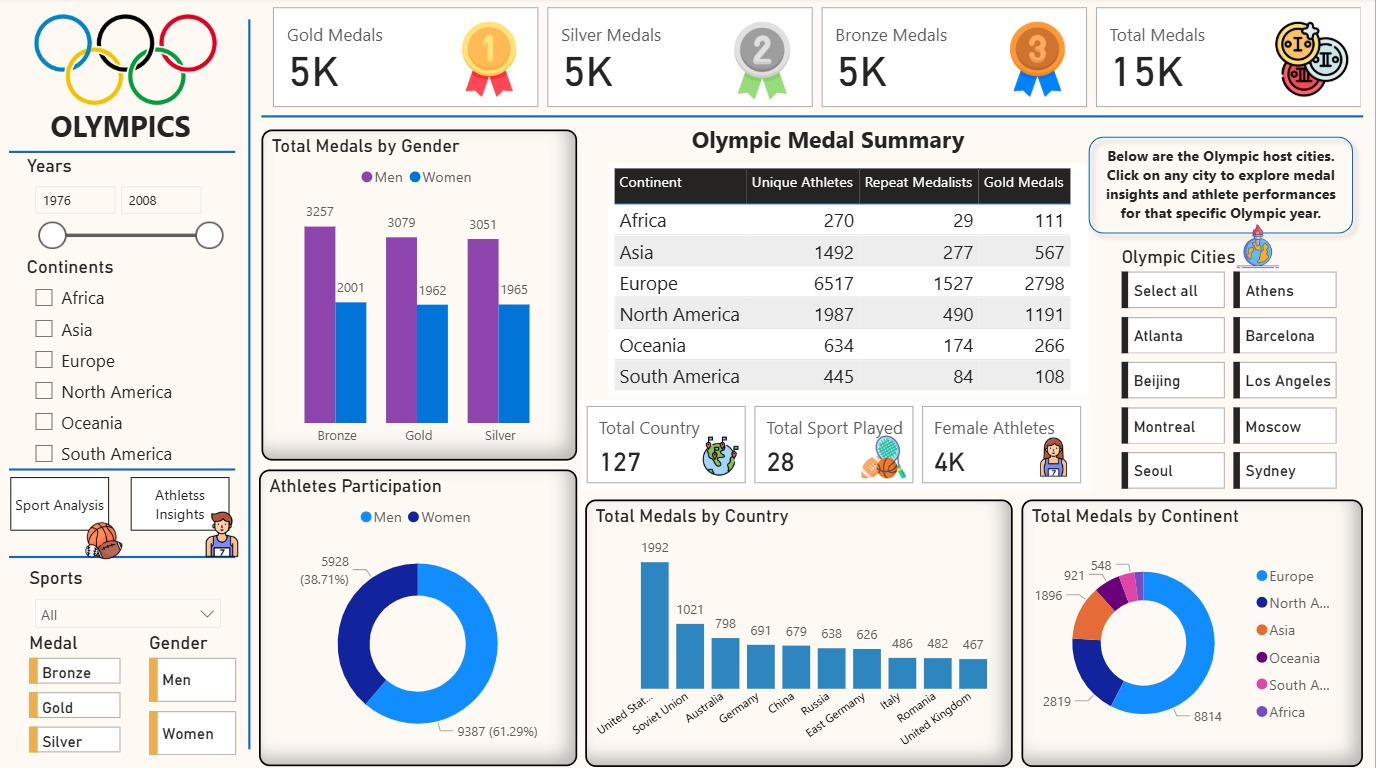

Layout of this report page (visuals, bound fields, positions):
{"tool":"powerbi","page":{"name":"Overview","canvas":[1280,720],"ordinal":0},"visuals":[{"type":"slicer","title":"Years","fields":{"Values":["Cleaned_Summer_Olympic_Medals.year"]},"box":[20.4,146.6,195.5,97.8],"z":0},{"type":"slicer","title":"Continents","fields":{"Values":["Cleaned_Summer_Olympic_Medals.continent"]},"box":[20.4,240.3,195.5,203.6],"z":1000},{"type":"advancedSlicerVisual","title":"Gender","fields":{"Values":["Cleaned_Summer_Olympic_Medals.gender"]},"box":[134.9,590.7,91.9,119.8],"z":2000},{"type":"advancedSlicerVisual","title":"Medal","fields":{"Values":["Cleaned_Summer_Olympic_Medals.medal"]},"box":[23.3,590.7,95.3,119.8],"z":3000},{"type":"cardVisual","fields":{"Data":["Cleaned_Summer_Olympic_Medals.Gold Medals","Cleaned_Summer_Olympic_Medals.Silver Medals","Cleaned_Summer_Olympic_Medals.Bronze Medals","Cleaned_Summer_Olympic_Medals.Total Medals"]},"box":[255,4.1,1025,104.5],"z":4000},{"type":"shape","box":[244.4,99.1,1025,24.4],"z":5000},{"type":"shape","box":[226.7,20.4,12.2,678.8],"z":6000},{"type":"image","box":[20.4,2.7,195.5,110],"z":7000},{"type":"textbox","box":[43.4,96.4,149.3,54.3],"z":8000},{"type":"shape","box":[9.5,133.1,210.4,23.1],"z":9000},{"type":"slicer","title":"Sports","fields":{"Values":["Cleaned_Summer_Olympic_Medals.city"]},"box":[23.3,530.2,193,60.5],"z":10000},{"type":"shape","box":[9.3,509.3,210.5,23.3],"z":11000},{"type":"shape","box":[9.3,427.9,210.5,23.3],"z":12000},{"type":"textbox","box":[639.5,112.7,342.1,46.2],"z":13000},{"type":"clusteredColumnChart","title":"Total Medals by Gender","fields":{"Category":["Cleaned_Summer_Olympic_Medals.medal"],"Series":["Cleaned_Summer_Olympic_Medals.gender"],"Y":["Cleaned_Summer_Olympic_Medals.Total Medals"]},"box":[244.4,123.5,293.3,308.2],"z":14000},{"type":"donutChart","title":"Athletes Participation","fields":{"Category":["Cleaned_Summer_Olympic_Medals.gender"],"Y":["CountNonNull(Cleaned_Summer_Olympic_Medals.athlete)"]},"box":[241.7,439.9,296,275.6],"z":15000},{"type":"donutChart","fields":{"Category":["Cleaned_Summer_Olympic_Medals.continent"],"Y":["Cleaned_Summer_Olympic_Medals.Total Medals"]},"box":[951.7,467,317.7,248.5],"z":16000},{"type":"tableEx","fields":{"Values":["Cleaned_Summer_Olympic_Medals.continent","Cleaned_Summer_Olympic_Medals.Unique Athletes","Cleaned_Summer_Olympic_Medals.Repeat Medalists","Cleaned_Summer_Olympic_Medals.Gold Medals"]},"box":[566.1,154.8,448,217.2],"z":17000},{"type":"columnChart","title":"Total Medals by Country","fields":{"Category":["Cleaned_Summer_Olympic_Medals.country"],"Y":["Cleaned_Summer_Olympic_Medals.Total Medals"]},"box":[545.8,467,397.8,248.5],"z":18000},{"type":"cardVisual","fields":{"Data":["Count(Cleaned_Summer_Olympic_Medals.country)","Count(Cleaned_Summer_Olympic_Medals.sport)","Cleaned_Summer_Olympic_Medals.Female Athletes"]},"box":[541.7,376.1,472.5,82.8],"z":19000},{"type":"advancedSlicerVisual","title":"Olympic Cities","fields":{"Values":["Cleaned_Summer_Olympic_Medals.city"]},"box":[1039.5,231.4,211.6,236],"z":20000},{"type":"shape","box":[1004.7,120.9,264,108.1],"z":21000},{"type":"textbox","box":[1017.4,133.7,238.4,95.3],"z":22000},{"type":"pageNavigator","box":[10.5,446.5,205.8,50],"z":23000},{"type":"image","box":[75.6,481.4,44.2,48.8],"z":24000},{"type":"image","box":[181.4,467.4,52.3,65.1],"z":25000},{"type":"image","box":[1145.4,204.7,51.2,54.7],"z":26000},{"type":"image","box":[647.7,403.5,47.7,47.7],"z":27000},{"type":"image","box":[796.5,402.3,52.3,51.2],"z":28000},{"type":"image","box":[957,404.7,47.7,46.5],"z":29000}]}

Visuals, with their boxes in screenshot pixels (x1, y1, x2, y2), scaled from the page's 1280x720 canvas onto the 1376x768 screenshot:
"Years" slicer: Rect(22, 156, 232, 261)
"Continents" slicer: Rect(22, 256, 232, 473)
"Gender" advancedSlicerVisual: Rect(145, 630, 244, 758)
"Medal" advancedSlicerVisual: Rect(25, 630, 127, 758)
cardVisual - Cleaned_Summer_Olympic_Medals.Gold Medals x Cleaned_Summer_Olympic_Medals.Silver Medals: Rect(274, 4, 1375, 116)
shape: Rect(263, 106, 1365, 132)
shape: Rect(244, 22, 257, 746)
image: Rect(22, 3, 232, 120)
textbox: Rect(47, 103, 207, 161)
shape: Rect(10, 142, 236, 167)
"Sports" slicer: Rect(25, 566, 233, 630)
shape: Rect(10, 543, 236, 568)
shape: Rect(10, 456, 236, 481)
textbox: Rect(687, 120, 1055, 169)
"Total Medals by Gender" clusteredColumnChart: Rect(263, 132, 578, 460)
"Athletes Participation" donutChart: Rect(260, 469, 578, 763)
donutChart - Cleaned_Summer_Olympic_Medals.continent x Cleaned_Summer_Olympic_Medals.Total Medals: Rect(1023, 498, 1365, 763)
tableEx - Cleaned_Summer_Olympic_Medals.continent x Cleaned_Summer_Olympic_Medals.Unique Athletes: Rect(609, 165, 1090, 397)
"Total Medals by Country" columnChart: Rect(587, 498, 1014, 763)
cardVisual - Count(Cleaned_Summer_Olympic_Medals.country) x Count(Cleaned_Summer_Olympic_Medals.sport): Rect(582, 401, 1090, 489)
"Olympic Cities" advancedSlicerVisual: Rect(1117, 247, 1345, 499)
shape: Rect(1080, 129, 1364, 244)
textbox: Rect(1094, 143, 1350, 244)
pageNavigator: Rect(11, 476, 233, 530)
image: Rect(81, 513, 129, 566)
image: Rect(195, 499, 251, 568)
image: Rect(1231, 218, 1286, 277)
image: Rect(696, 430, 748, 481)
image: Rect(856, 429, 912, 484)
image: Rect(1029, 432, 1080, 481)
